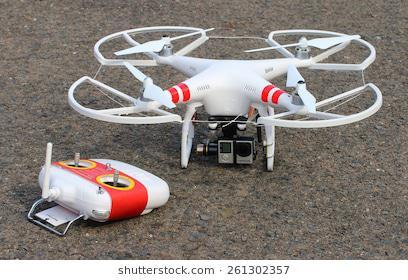drone: (53, 13, 408, 183)
